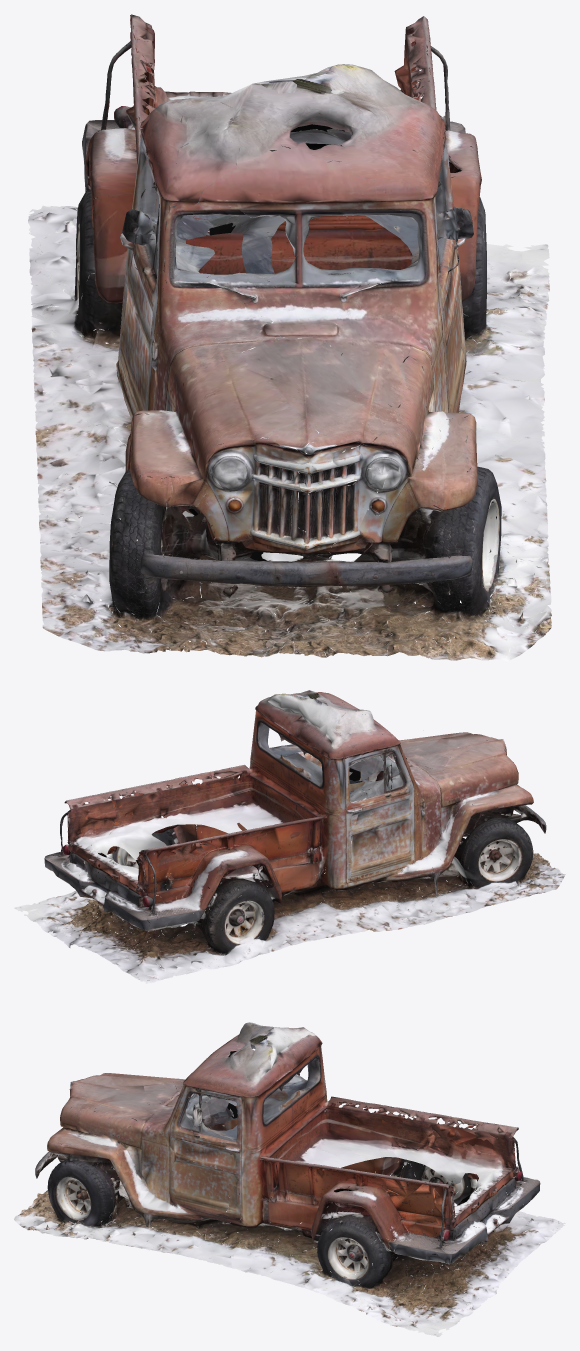
Rendered from willys.glb.
The picture shows the model from 3 angles, top to bottom: view 1: azimuth 30°, elevation 25°; view 2: azimuth 150°, elevation 25°; view 3: azimuth 270°, elevation 25°; orthographic projection. The views are drawn at different scales.
Visible parts, largest first — view 1: Object_4, Object_5, Object_2, Object_3, Object_8; view 2: Object_5, Object_4, Object_3, Object_2, Object_8; view 3: Object_5, Object_2, Object_4, Object_3, Object_8.
Part boxes in pixels (left/top/right/bottom): Object_4: left=29, top=32, right=551, bottom=657; Object_5: left=29, top=14, right=551, bottom=658; Object_2: left=28, top=25, right=548, bottom=661; Object_3: left=41, top=16, right=549, bottom=656; Object_8: left=36, top=15, right=549, bottom=654; Object_5: left=34, top=690, right=565, bottom=975; Object_4: left=14, top=701, right=557, bottom=978; Object_3: left=24, top=692, right=565, bottom=958; Object_2: left=37, top=715, right=562, bottom=983; Object_8: left=53, top=709, right=546, bottom=947; Object_5: left=23, top=1022, right=535, bottom=1326; Object_2: left=14, top=1073, right=565, bottom=1330; Object_4: left=23, top=1022, right=545, bottom=1336; Object_3: left=18, top=1027, right=526, bottom=1332; Object_8: left=36, top=1025, right=529, bottom=1326.
Size of the model in its own units: 4.52 by 2.16 by 5.45.
6 materials, 5 textured.
